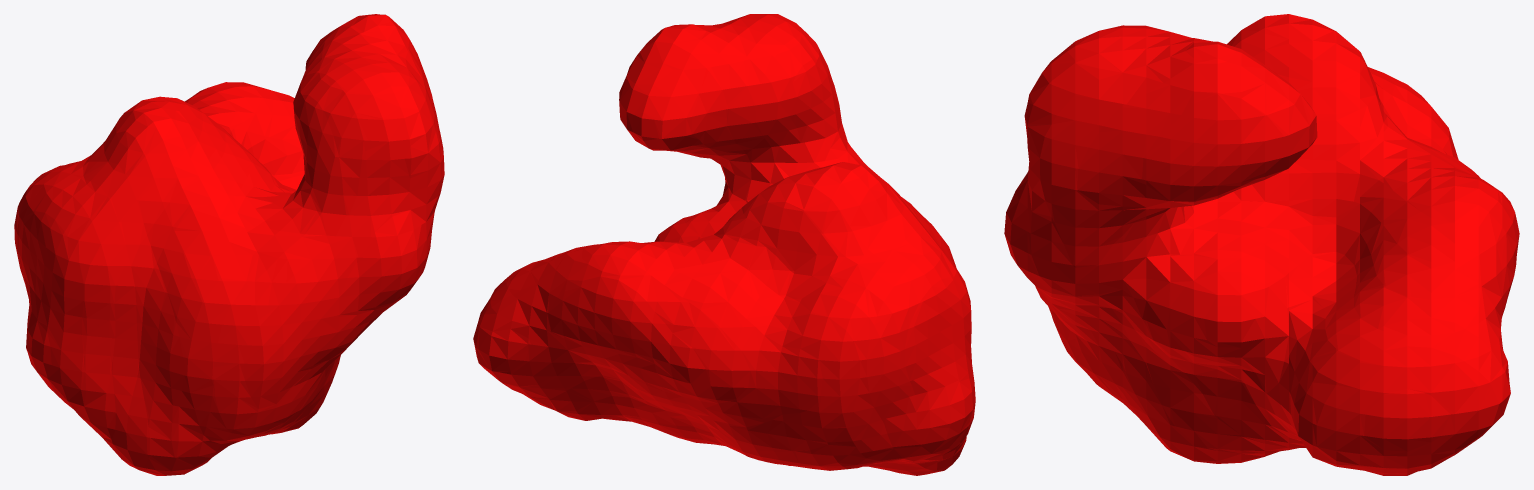
Rendered from mraZ_coarse.dae.
3 views of the same model, side by side, from view 1: azimuth 30°, elevation 25°; view 2: azimuth 150°, elevation 25°; view 3: azimuth 270°, elevation 25° (orthographic). The views are drawn at different scales.
Parts seen in each view (by area): view 1: mraZ; view 2: mraZ; view 3: mraZ.
Boxes of the visible parts, left/top/right/bottom form: mraZ: left=14, top=14, right=444, bottom=475; mraZ: left=473, top=14, right=975, bottom=475; mraZ: left=1004, top=14, right=1519, bottom=475.
Size of the model in its own units: 49.23 by 43.68 by 42.74.
